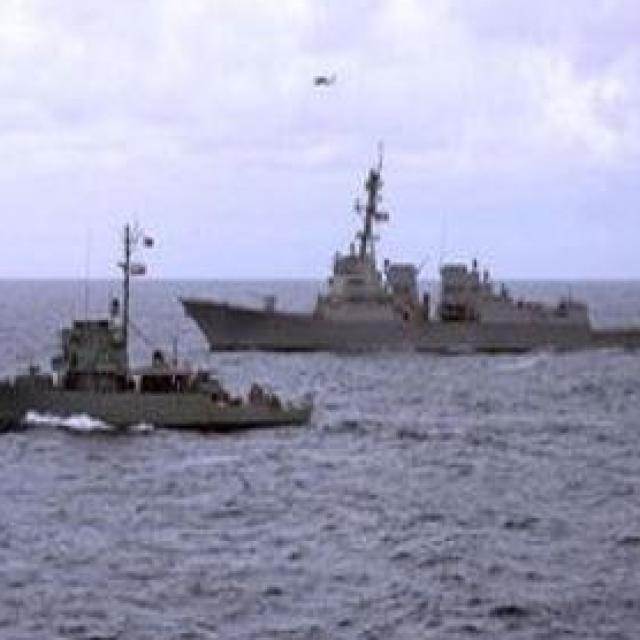navalvessels: (180, 138, 640, 350), (0, 253, 316, 428)
